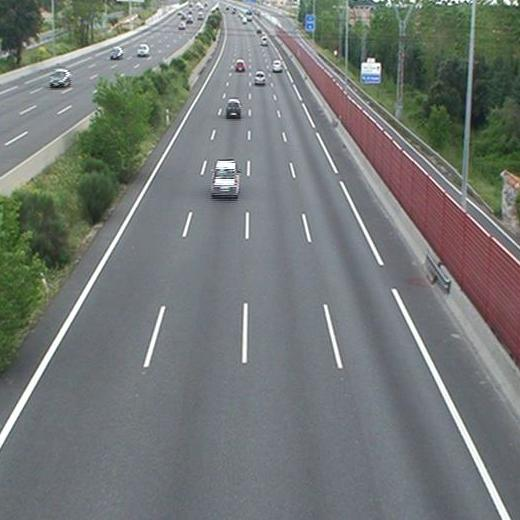car: (212, 160, 240, 196), (226, 99, 241, 116), (254, 71, 264, 85), (235, 60, 245, 71), (272, 61, 282, 71), (260, 36, 268, 47)
